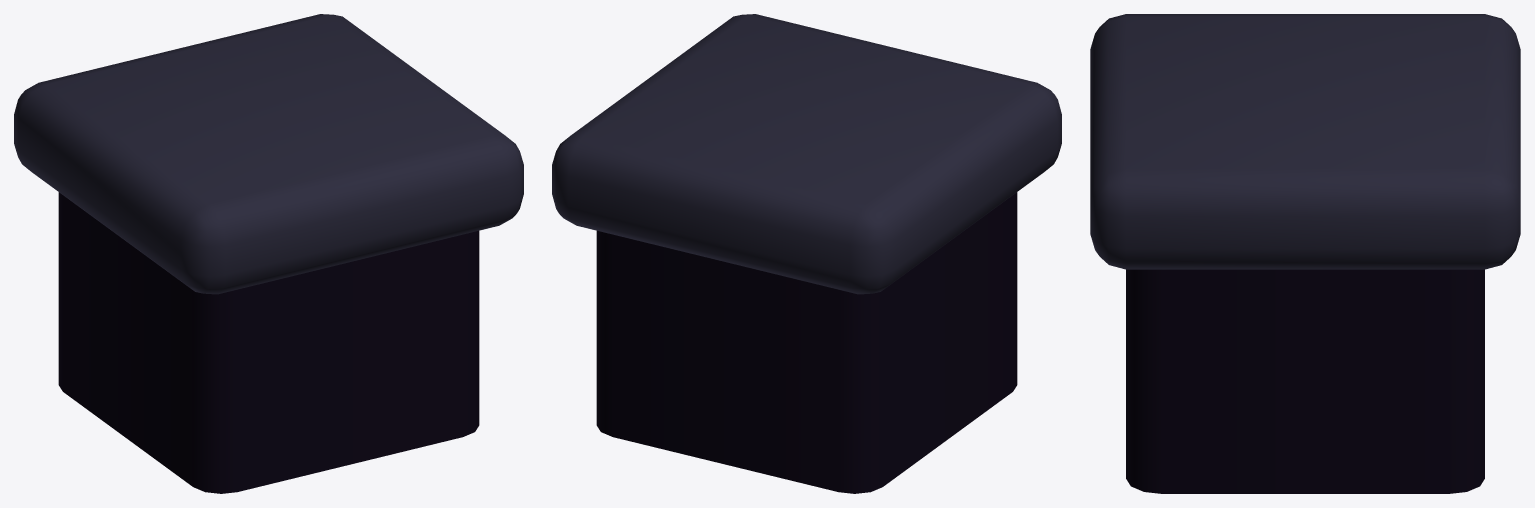
File: GroundLevelButtonVolcano.fbx
3 views of the same model, side by side, from view 1: azimuth 30°, elevation 25°; view 2: azimuth 150°, elevation 25°; view 3: azimuth 270°, elevation 25° (orthographic). The views are drawn at different scales.
Visible parts, largest first — view 1: GroundLevelButtonVolcano; view 2: GroundLevelButtonVolcano; view 3: GroundLevelButtonVolcano.
Part boxes in pixels (left/top/right/bottom): GroundLevelButtonVolcano: left=14, top=14, right=523, bottom=493; GroundLevelButtonVolcano: left=552, top=14, right=1061, bottom=493; GroundLevelButtonVolcano: left=1090, top=14, right=1520, bottom=493.
Size of the model in its own units: 240 by 200 by 240.
